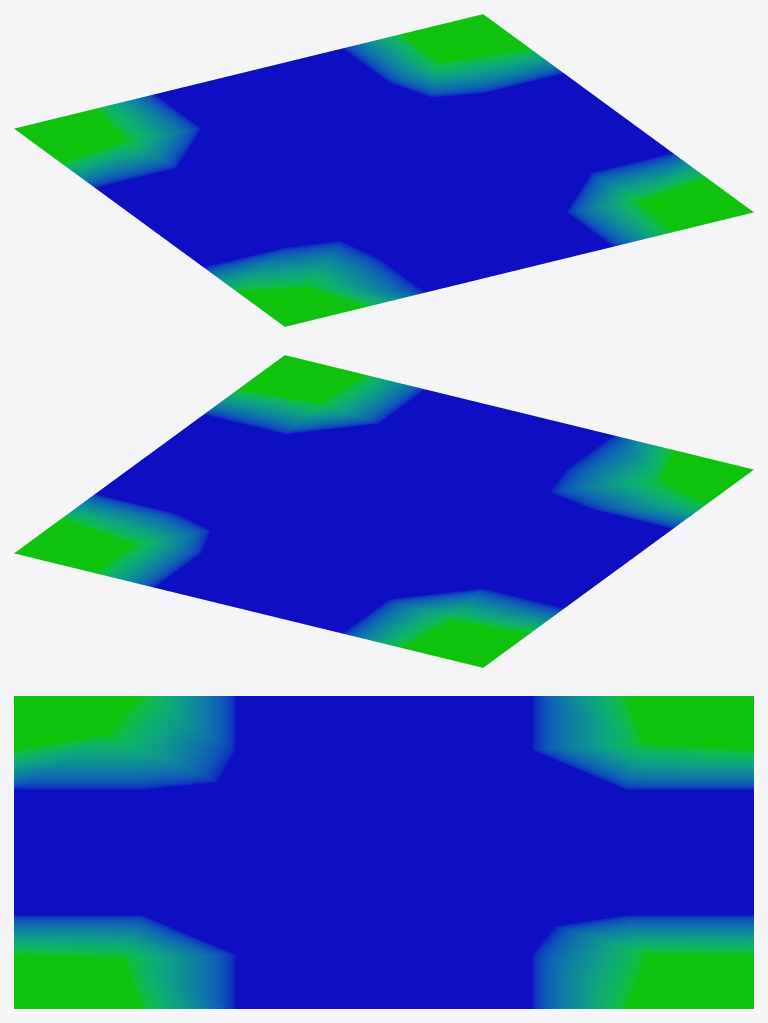
The model's file is SM_FloorX.fbx.
The picture shows the model from 3 angles, top to bottom: view 1: azimuth 30°, elevation 25°; view 2: azimuth 150°, elevation 25°; view 3: azimuth 270°, elevation 25°; orthographic projection. The views are drawn at different scales.
Parts seen in each view (by area): view 1: SM_FloorX; view 2: SM_FloorX; view 3: SM_FloorX.
Part boxes in pixels (left/top/right/bottom): SM_FloorX: left=14, top=14, right=753, bottom=326; SM_FloorX: left=14, top=355, right=753, bottom=667; SM_FloorX: left=14, top=696, right=753, bottom=1008.
Bounding box in the file's own units: 500 × 1.11e-13 × 500.
